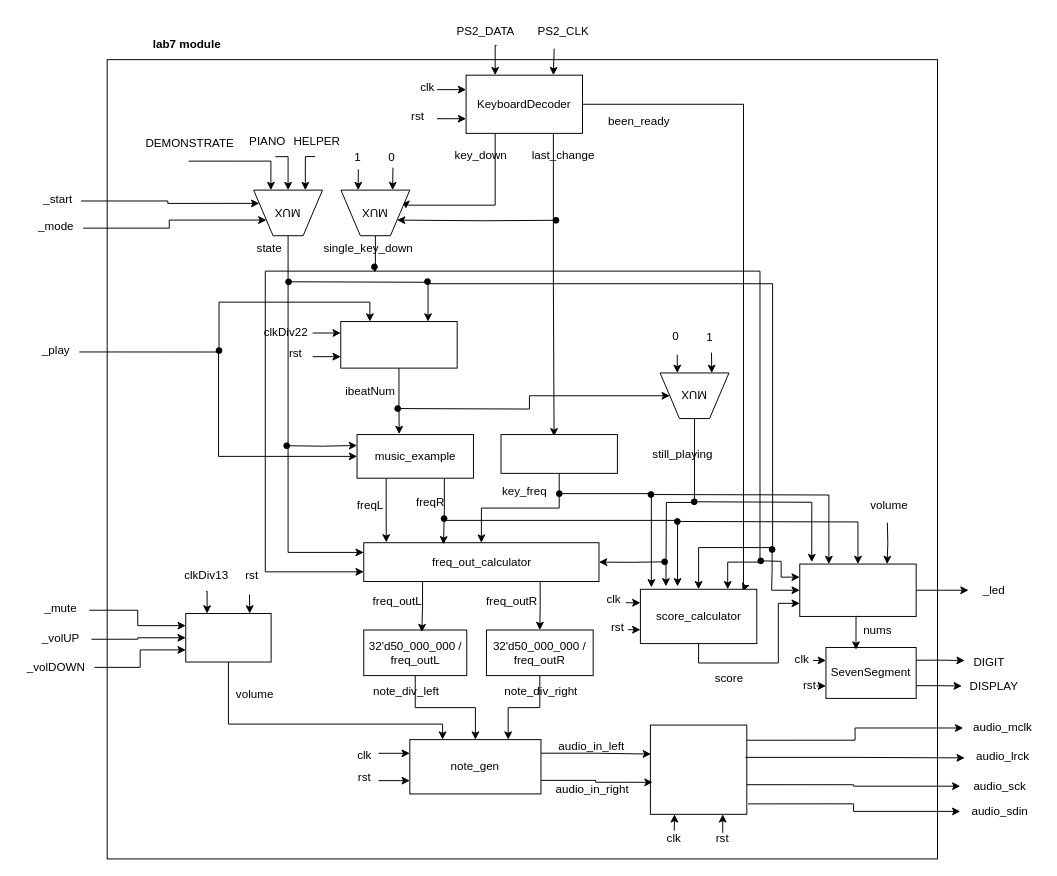
This 1057x876 diagram has some shape labels left out. The centre of each missing label's shape, as x and y in pixels:
"key_freq_calculator" belongs at (x=558, y=453).
"nums_calculator" belongs at (x=857, y=589).
"player_control" belongs at (x=398, y=344).
"speaker_control" belongs at (x=698, y=769).
"volume_control" belongs at (x=228, y=637).
